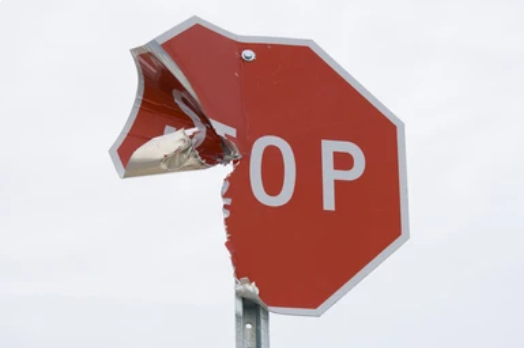Stop: (82, 14, 449, 314)
